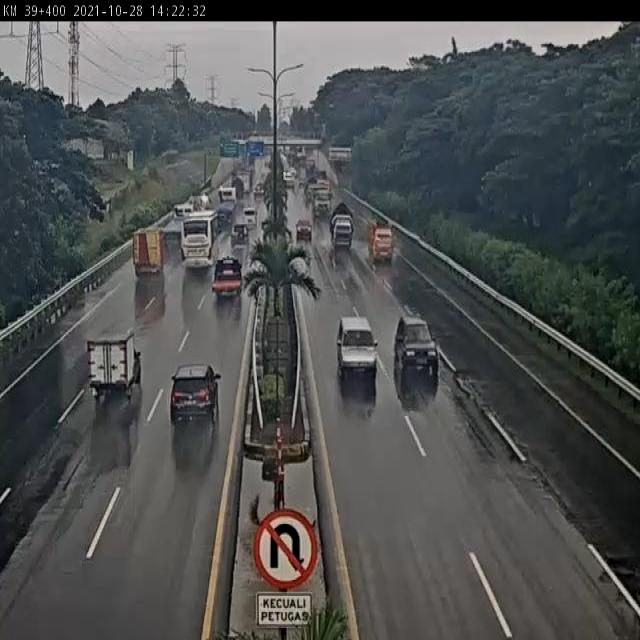Bus: (180, 208, 220, 268)
Car: (170, 363, 222, 422), (336, 318, 378, 382), (394, 317, 440, 375), (231, 222, 249, 249), (296, 220, 314, 242)
Truck: (86, 332, 142, 404), (133, 224, 165, 280), (161, 200, 196, 243), (212, 256, 243, 302), (329, 202, 356, 252), (210, 184, 240, 229), (368, 219, 394, 264)
Van: (242, 207, 258, 229)
